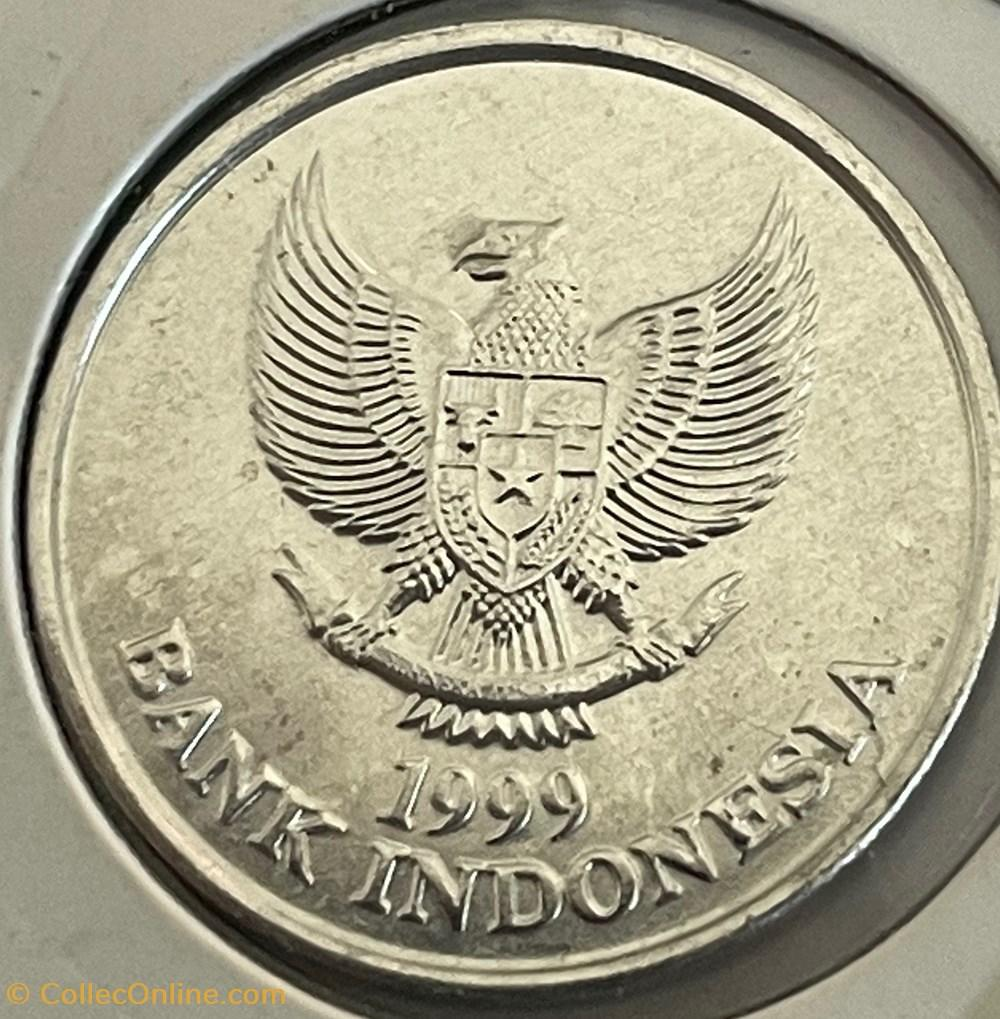coin_100_e1999: (34, 10, 1000, 1019)
